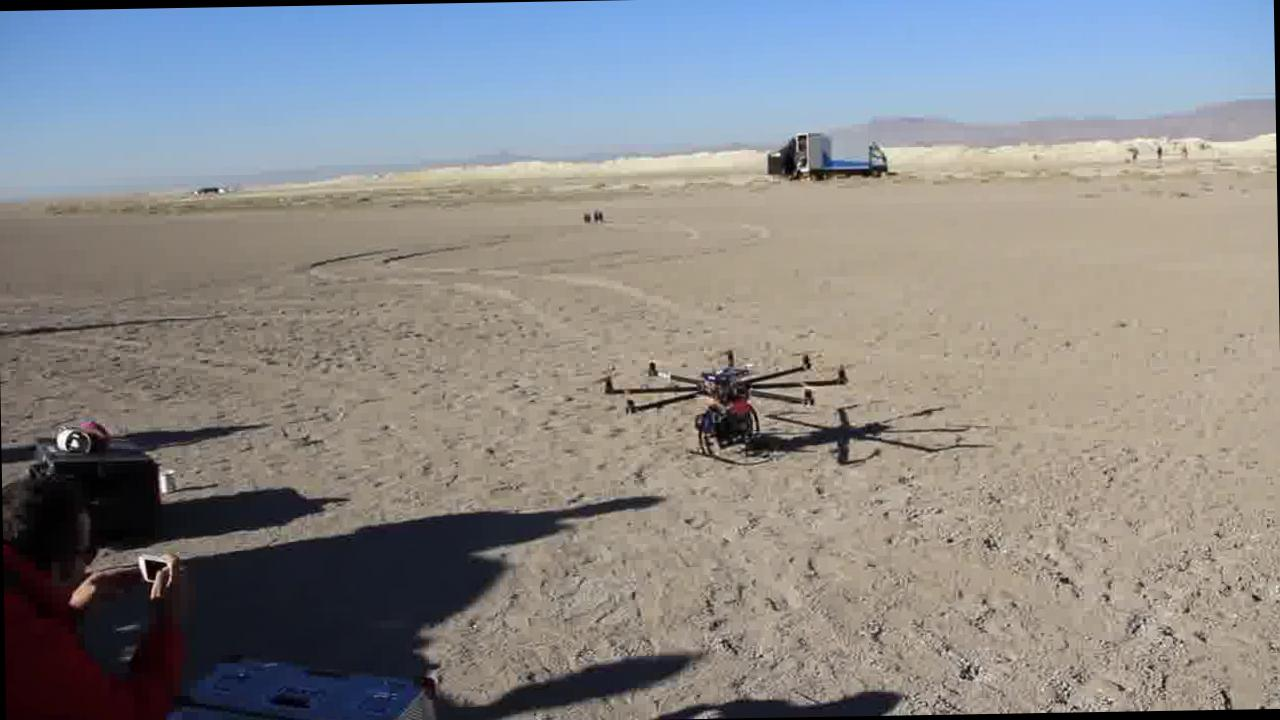drone: (594, 342, 852, 461)
